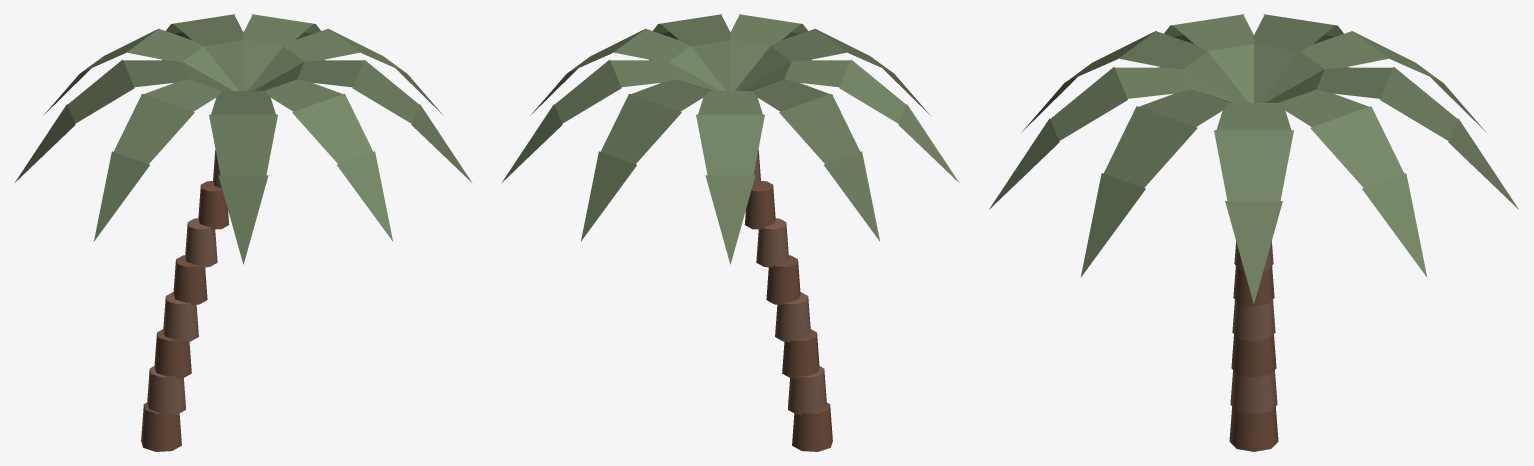
File: palm.glb
3 renders of one model, left to right at view 1: azimuth 30°, elevation 25°; view 2: azimuth 150°, elevation 25°; view 3: azimuth 270°, elevation 25°, orthographic. The views are drawn at different scales.
Parts seen in each view (by area): view 1: _MeshInstance3D_140, _MeshInstance3D_139, _MeshInstance3D_141, _MeshInstance3D_138, _MeshInstance3D_142, Frond, _MeshInstance3D_143, _MeshInstance3D_144, _MeshInstance3D_145, TrunkRing, _MeshInstance3D_130, _MeshInstance3D_131 (+4 smaller); view 2: _MeshInstance3D_143, _MeshInstance3D_142, _MeshInstance3D_144, _MeshInstance3D_141, _MeshInstance3D_145, Frond, _MeshInstance3D_140, _MeshInstance3D_138, _MeshInstance3D_139, TrunkRing, _MeshInstance3D_130, _MeshInstance3D_131 (+4 smaller); view 3: Frond, _MeshInstance3D_138, _MeshInstance3D_145, _MeshInstance3D_139, _MeshInstance3D_144, _MeshInstance3D_140, _MeshInstance3D_143, _MeshInstance3D_141, _MeshInstance3D_142, TrunkRing, _MeshInstance3D_130, _MeshInstance3D_131 (+2 smaller).
Part boxes in pixels (bbox=[...]): _MeshInstance3D_140: bbox=[209, 91, 277, 264]; _MeshInstance3D_139: bbox=[261, 79, 392, 241]; _MeshInstance3D_141: bbox=[94, 79, 225, 241]; _MeshInstance3D_138: bbox=[253, 59, 471, 182]; _MeshInstance3D_142: bbox=[15, 59, 233, 182]; Frond: bbox=[248, 28, 443, 115]; _MeshInstance3D_143: bbox=[43, 28, 238, 115]; _MeshInstance3D_144: bbox=[162, 14, 243, 90]; _MeshInstance3D_145: bbox=[243, 14, 324, 90]; TrunkRing: bbox=[141, 402, 181, 451]; _MeshInstance3D_130: bbox=[147, 366, 185, 415]; _MeshInstance3D_131: bbox=[154, 329, 191, 378]; _MeshInstance3D_143: bbox=[696, 91, 764, 264]; _MeshInstance3D_142: bbox=[748, 79, 879, 241]; _MeshInstance3D_144: bbox=[581, 79, 712, 241]; _MeshInstance3D_141: bbox=[740, 59, 958, 182]; _MeshInstance3D_145: bbox=[502, 59, 720, 182]; Frond: bbox=[530, 28, 725, 115]; _MeshInstance3D_140: bbox=[735, 28, 930, 115]; _MeshInstance3D_138: bbox=[649, 14, 730, 90]; _MeshInstance3D_139: bbox=[730, 14, 811, 90]; TrunkRing: bbox=[792, 402, 832, 451]; _MeshInstance3D_130: bbox=[788, 366, 826, 415]; _MeshInstance3D_131: bbox=[782, 329, 819, 378]; Frond: bbox=[1214, 103, 1293, 303]; _MeshInstance3D_138: bbox=[1080, 89, 1232, 277]; _MeshInstance3D_145: bbox=[1275, 89, 1427, 277]; _MeshInstance3D_139: bbox=[989, 67, 1242, 209]; _MeshInstance3D_144: bbox=[1265, 67, 1518, 209]; _MeshInstance3D_140: bbox=[1021, 31, 1248, 132]; _MeshInstance3D_143: bbox=[1259, 31, 1486, 132]; _MeshInstance3D_141: bbox=[1160, 14, 1253, 102]; _MeshInstance3D_142: bbox=[1254, 14, 1347, 102]; TrunkRing: bbox=[1229, 406, 1278, 451]; _MeshInstance3D_130: bbox=[1230, 370, 1277, 414]; _MeshInstance3D_131: bbox=[1231, 334, 1276, 377].
Size of the model in its own units: 3.2 by 2.8 by 3.25.
